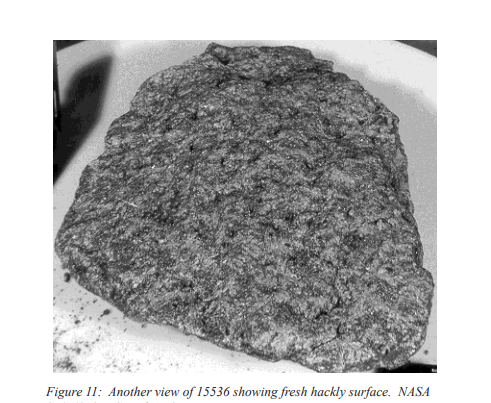Basalt: (73, 40, 431, 372)
